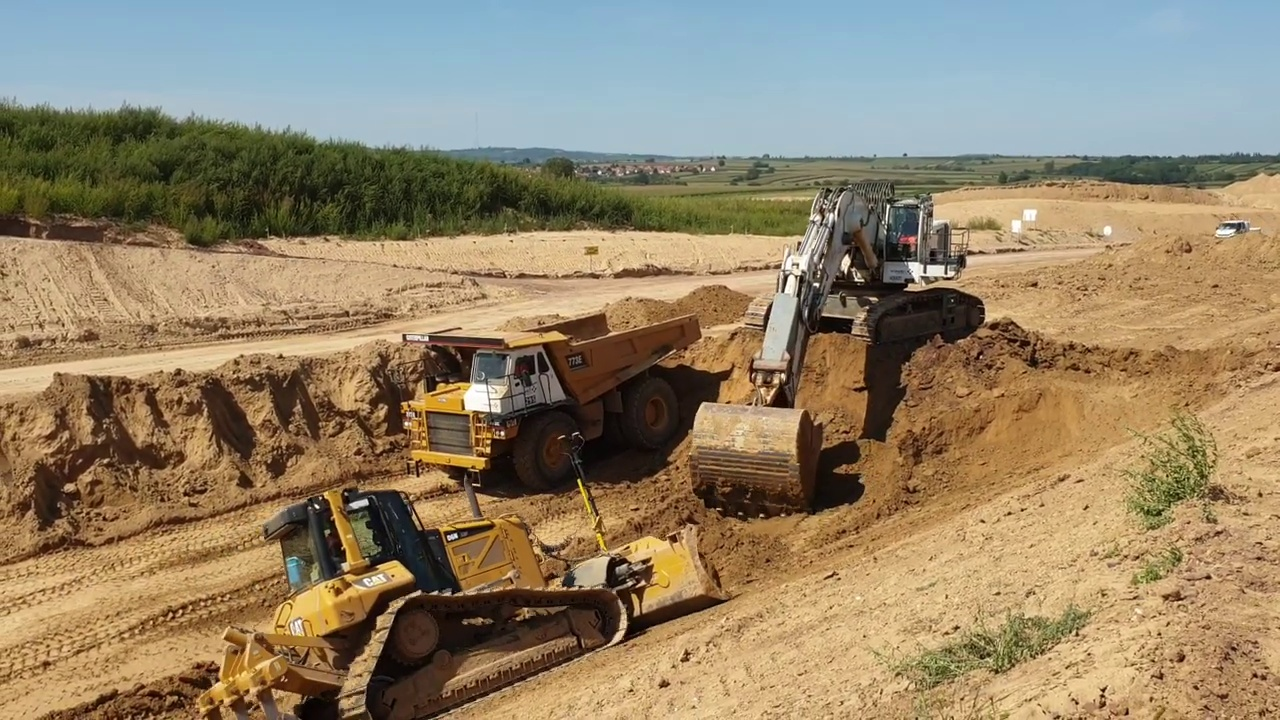bulldozer: (191, 430, 734, 720)
excavator: (691, 178, 987, 519)
truck: (397, 307, 701, 495), (1211, 217, 1270, 254)
